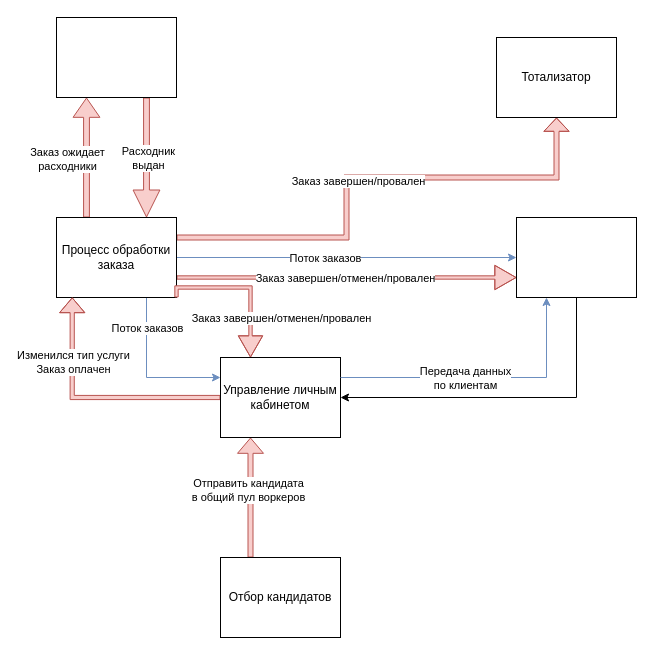
Image size: 654x655. Some labels were removed from this diagram. Each missing label, with the centre of its shape:
"Подготовка расходников" belongs at (x=116, y=57).
"Проверка качества" belongs at (x=576, y=257).
